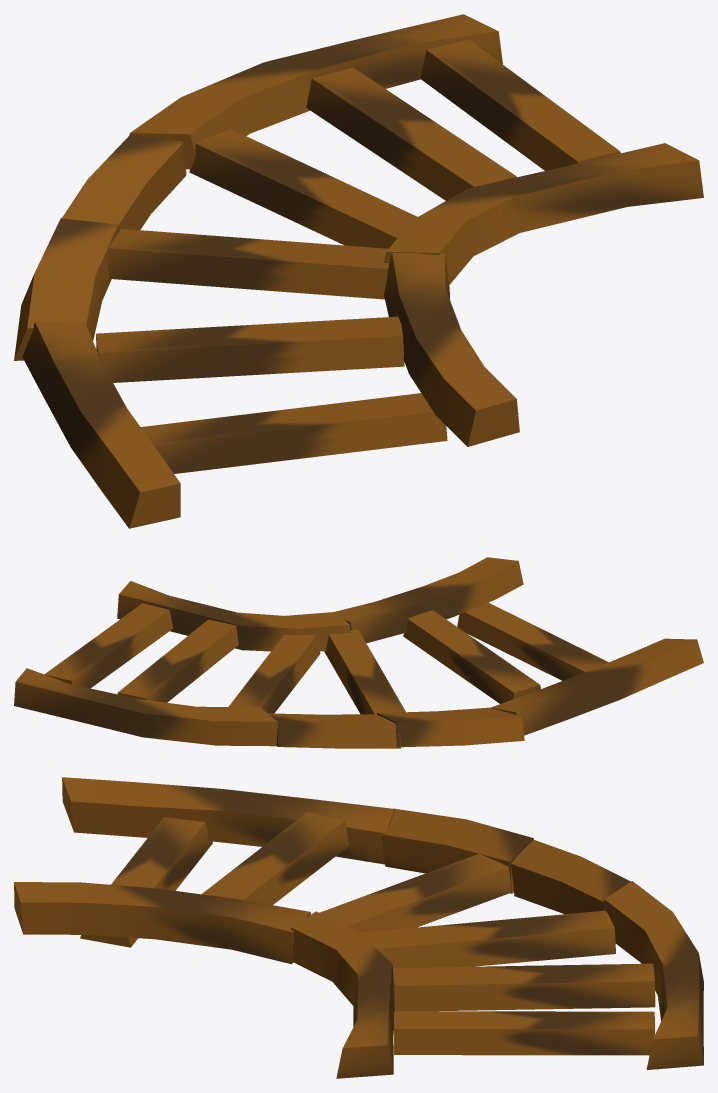
Rendered from train track curve finally.fbx.
3 views of the same model, one above another, from view 1: azimuth 30°, elevation 25°; view 2: azimuth 150°, elevation 25°; view 3: azimuth 270°, elevation 25° (orthographic). The views are drawn at different scales.
Visible parts, largest first — view 1: polySurface209; view 2: polySurface209; view 3: polySurface209.
Boxes of the visible parts, left/top/right/bottom form: polySurface209: left=14, top=14, right=703, bottom=528; polySurface209: left=14, top=557, right=703, bottom=748; polySurface209: left=14, top=777, right=703, bottom=1078.
Bounding box in the file's own units: 6.15 × 0.6411 × 5.85.
1 material, 1 textured.
